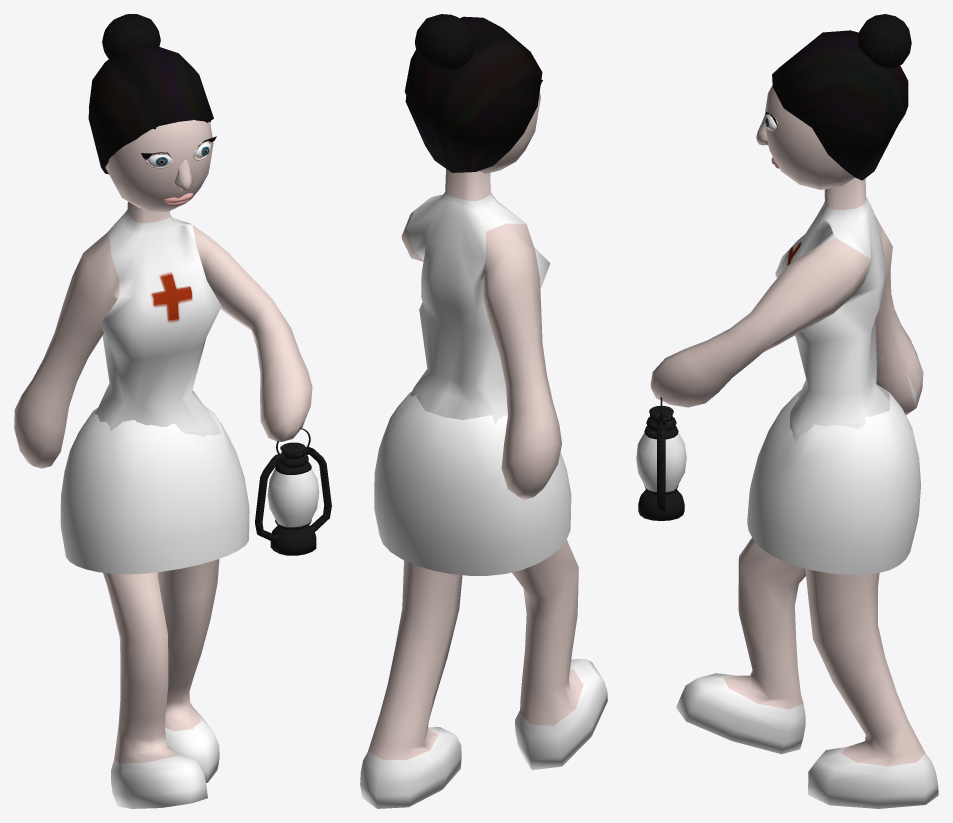
The model's file is walking_000011.obj.
3 views of the same model, side by side, from view 1: azimuth 30°, elevation 25°; view 2: azimuth 150°, elevation 25°; view 3: azimuth 270°, elevation 25° (orthographic). The views are drawn at different scales.
Parts seen in each view (by area): view 1: Cube_Cube.001, Cube.001_Cube, Cube.004; view 2: Cube_Cube.001, Cube.001_Cube; view 3: Cube_Cube.001, Cube.001_Cube, Cube.004.
Part boxes in pixels (bbox=[...]): Cube_Cube.001: bbox=[14, 14, 312, 808]; Cube.001_Cube: bbox=[60, 405, 249, 574]; Cube.004: bbox=[255, 428, 331, 555]; Cube_Cube.001: bbox=[360, 14, 607, 808]; Cube.001_Cube: bbox=[374, 391, 571, 575]; Cube_Cube.001: bbox=[650, 14, 938, 808]; Cube.001_Cube: bbox=[747, 385, 920, 574]; Cube.004: bbox=[636, 397, 686, 520].
Bounding box in the file's own units: 0.5725 × 2.07 × 0.7446.
